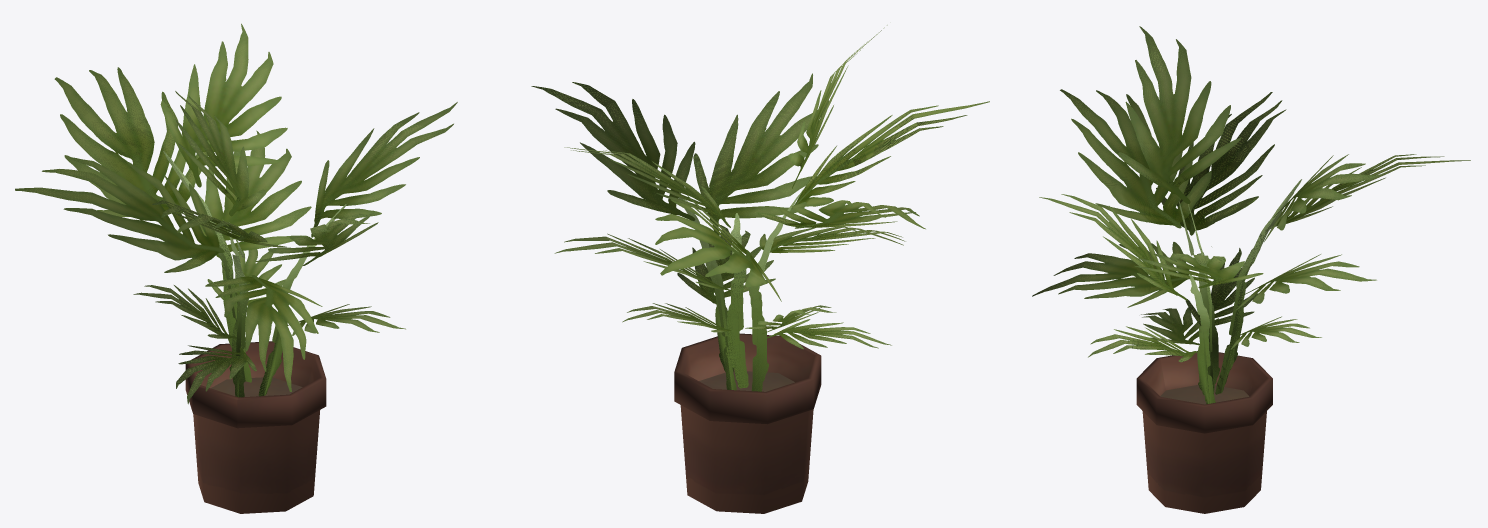
The model's file is matera.fbx.
3 renders of one model, left to right at view 1: azimuth 30°, elevation 25°; view 2: azimuth 150°, elevation 25°; view 3: azimuth 270°, elevation 25°, orthographic. The views are drawn at different scales.
Visible parts, largest first — view 1: MateraMalla; view 2: MateraMalla; view 3: MateraMalla.
Part boxes in pixels (x1,y1,x2,y2): MateraMalla: (15, 23, 457, 513); MateraMalla: (531, 25, 989, 513); MateraMalla: (1032, 26, 1470, 513).
Bounding box in the file's own units: 621 × 622 × 597.
1 material, 1 textured.
